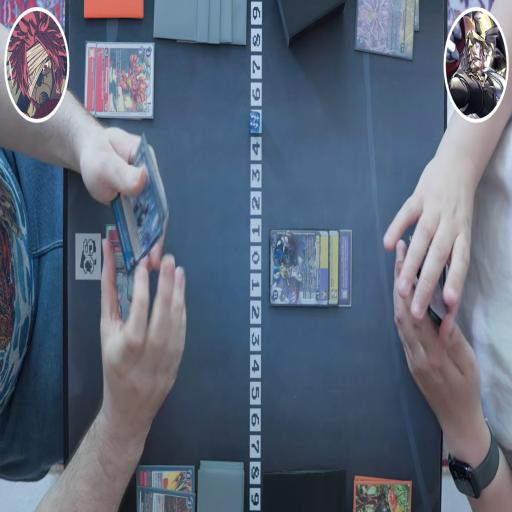card: (110, 136, 168, 272), (268, 228, 330, 309), (98, 42, 153, 117), (357, 1, 414, 59), (106, 224, 132, 321), (137, 465, 195, 493), (137, 488, 195, 510), (338, 229, 352, 307), (328, 230, 339, 308), (86, 43, 97, 113), (413, 2, 420, 32)
